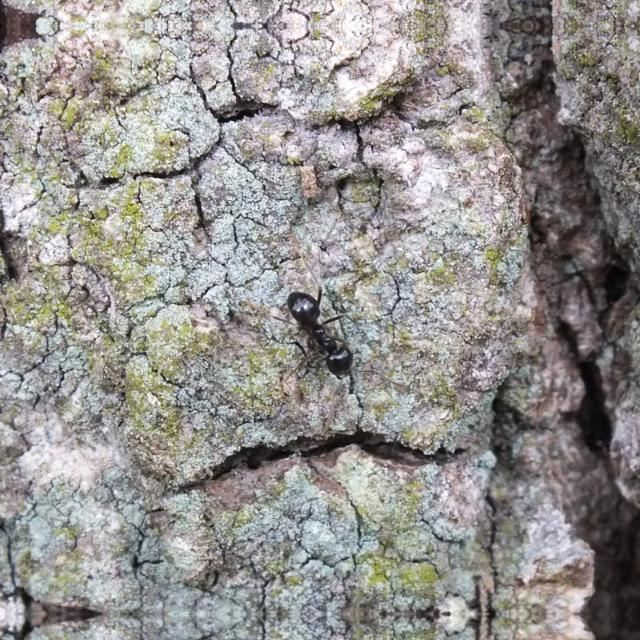Lasius: (279, 266, 361, 384)
